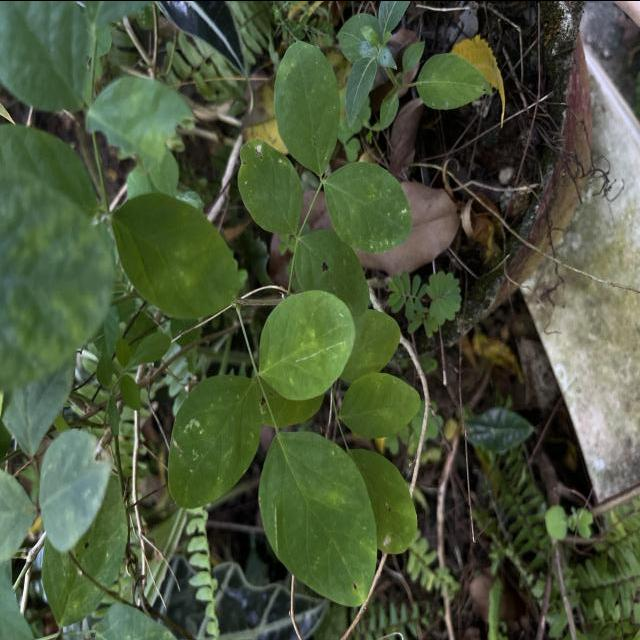Clitoria ternatea: (256, 430, 378, 608), (167, 372, 262, 509), (258, 288, 356, 402), (273, 38, 341, 176), (323, 160, 414, 252), (237, 137, 304, 235)
